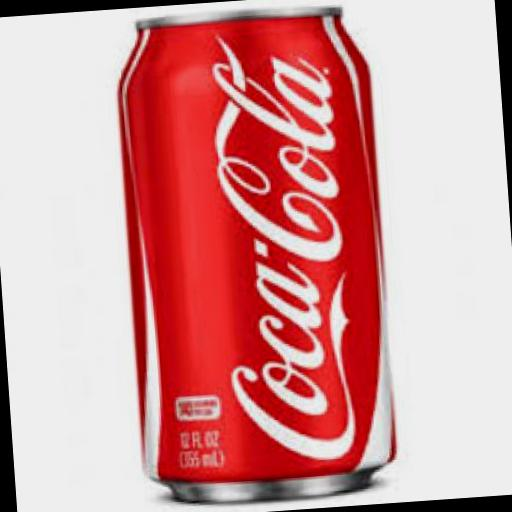metal: (110, 0, 401, 507)
